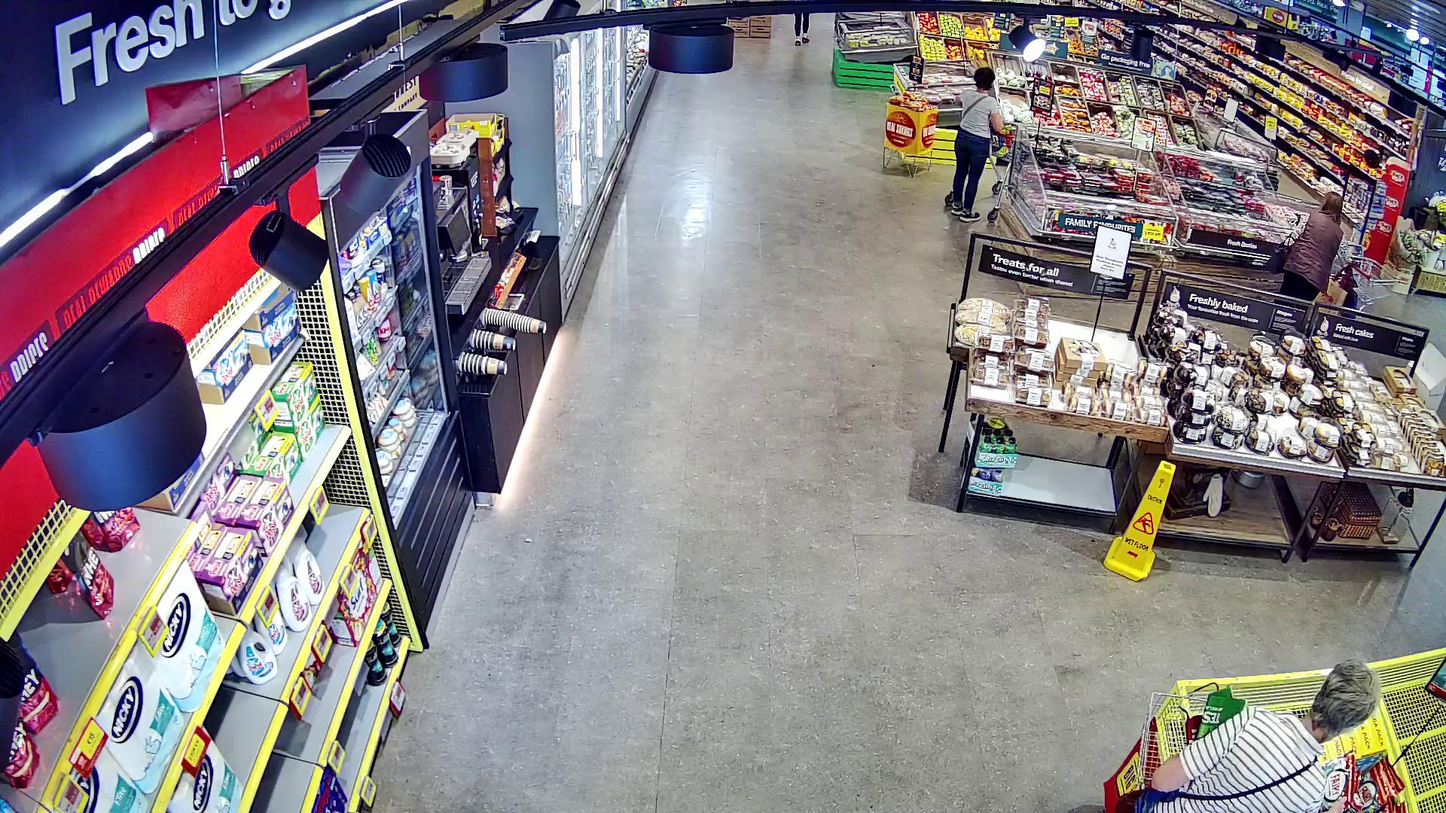backpack-or-handbag: (1265, 243, 1294, 272)
empty-trolly: (1339, 256, 1399, 310)
filled-shopping-bags: (1314, 262, 1360, 308)
person: (1281, 191, 1343, 299)
person-with-basket-trolly-shopping-bag-s-and-backpack-handbag: (1265, 191, 1399, 312)
